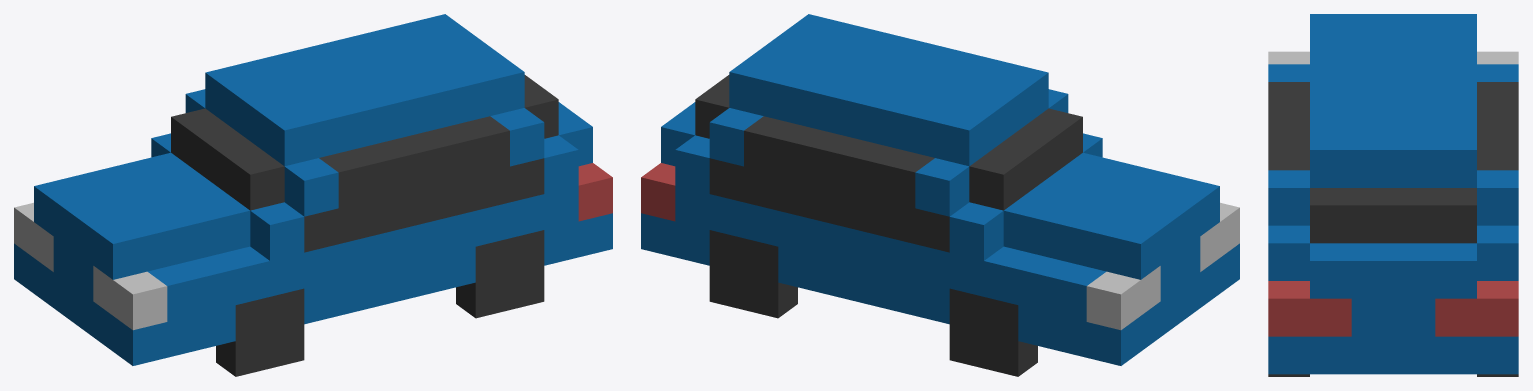
Rendered from car-v1-blue.gltf.
The picture shows the model from 3 angles, left to right: view 1: azimuth 30°, elevation 25°; view 2: azimuth 150°, elevation 25°; view 3: azimuth 270°, elevation 25°; orthographic projection. The views are drawn at different scales.
Parts seen in each view (by area): view 1: model, wheels; view 2: model, wheels; view 3: model, wheels.
Part boxes in pixels (x1,y1,x2,y2): model: (14,14,612,365); wheels: (216,230,544,376); model: (641,14,1239,365); wheels: (709,230,1037,376); model: (1268,14,1518,374); wheels: (1268,374,1518,376).
Size of the model in its own units: 1.4 by 0.6 by 0.6.
Materials: 2 (2 with a texture image).
